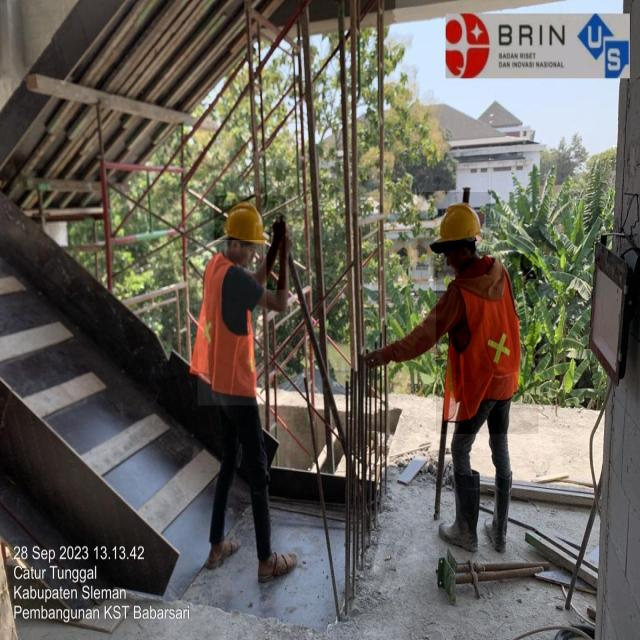Helmet: (214, 196, 286, 290), (418, 192, 490, 267)
Safety Vest: (436, 252, 538, 434), (198, 240, 266, 405)
